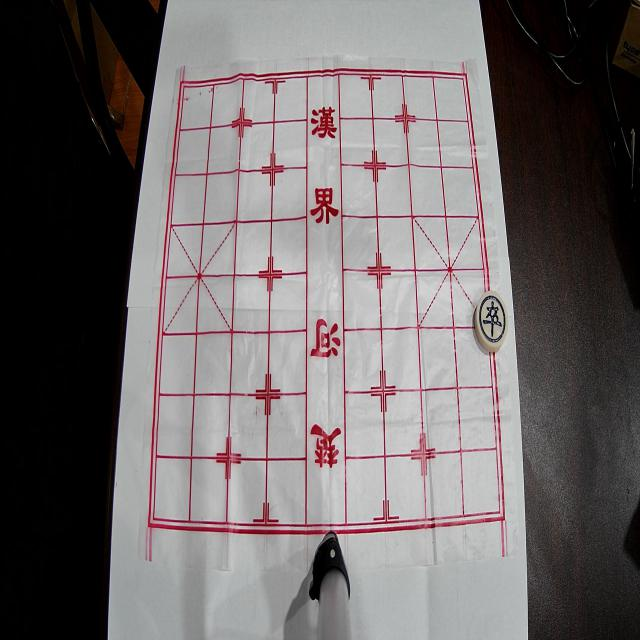black-soldier: (474, 290, 508, 352)
